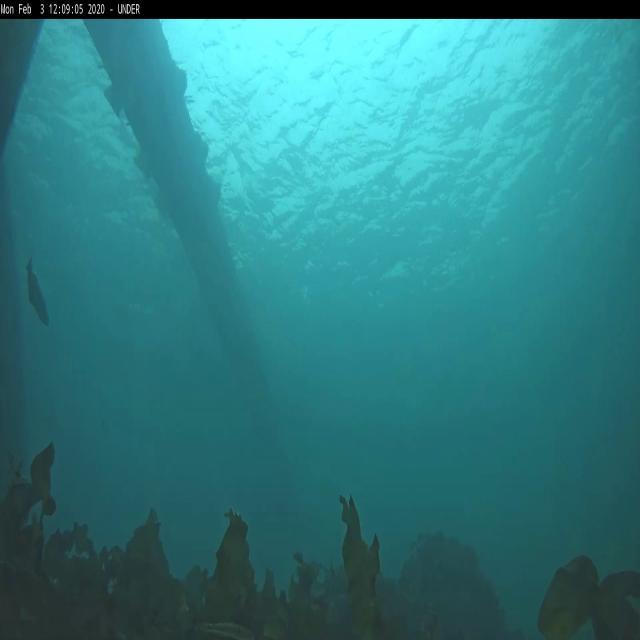fish: (24, 255, 52, 328)
